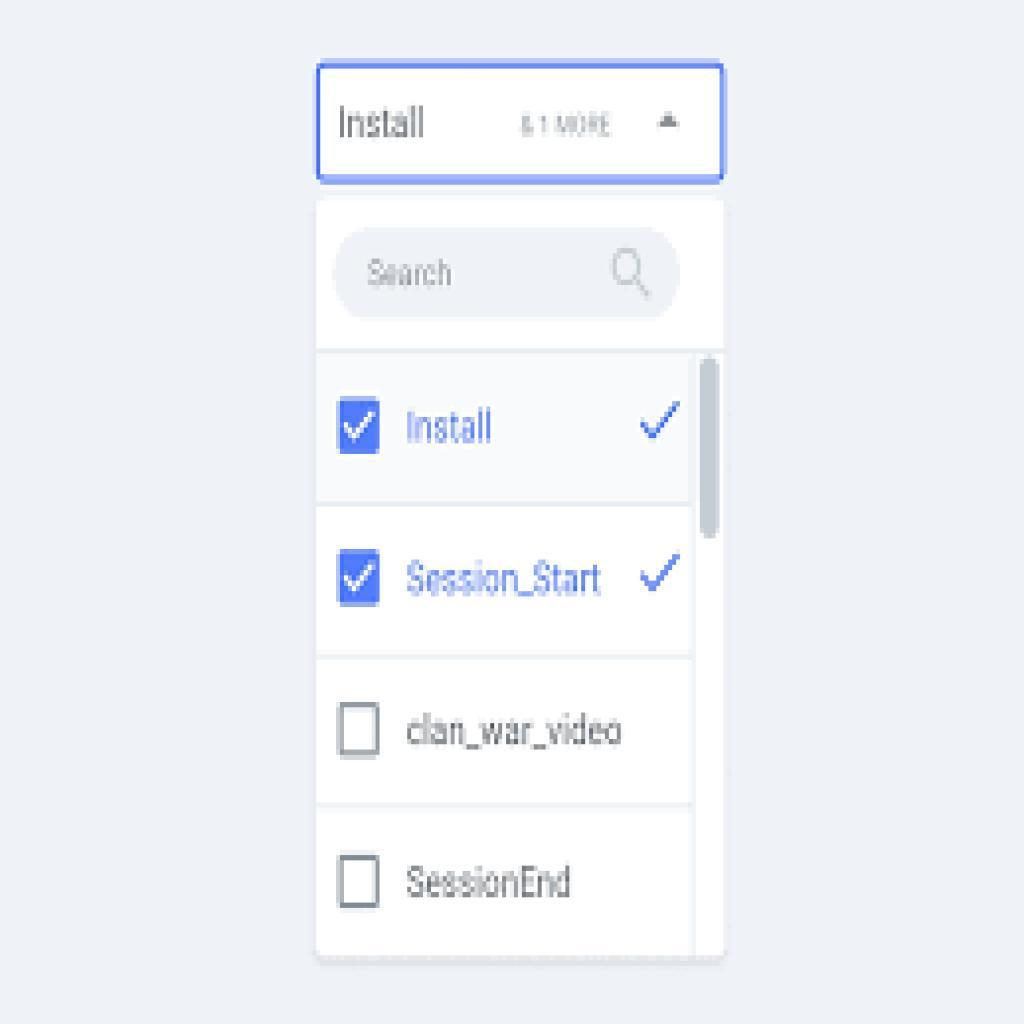checkbox: (337, 399, 385, 462), (336, 547, 383, 607), (334, 855, 382, 911), (336, 701, 381, 756)
dropdown: (316, 58, 726, 187)
icon: (630, 390, 683, 446), (641, 544, 683, 601)
input: (335, 227, 681, 317)
